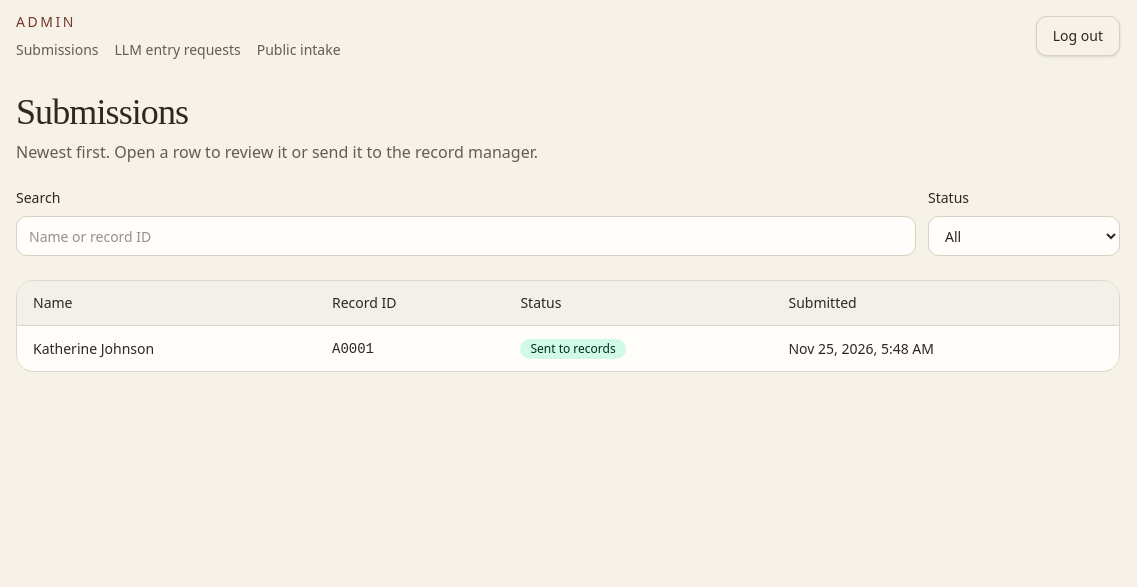
LLM entry requests page › is a separate admin page with Verify and Reject only while pending
Click the link "LLM entry requests": (178, 50) [114,40,241,60]
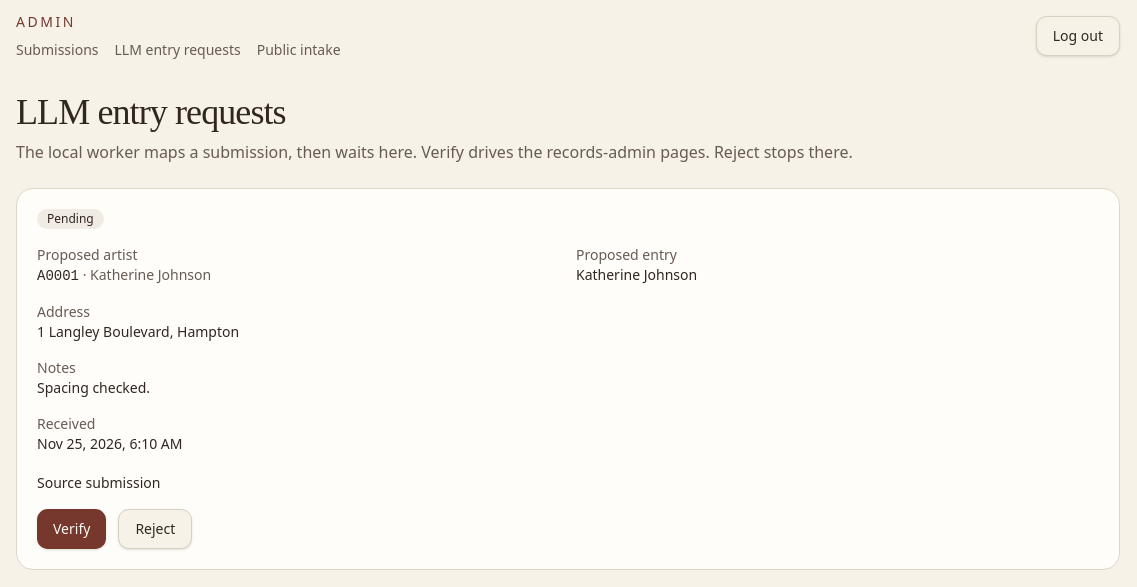
Expected: the heading "LLM entry requests" is shown, [16,92,286,132]
Expected: the link "Source submission" is shown, [37,473,160,493]
Expected: the button "Verify" is shown
Click the button "Verify": (72, 529) [37,509,106,549]
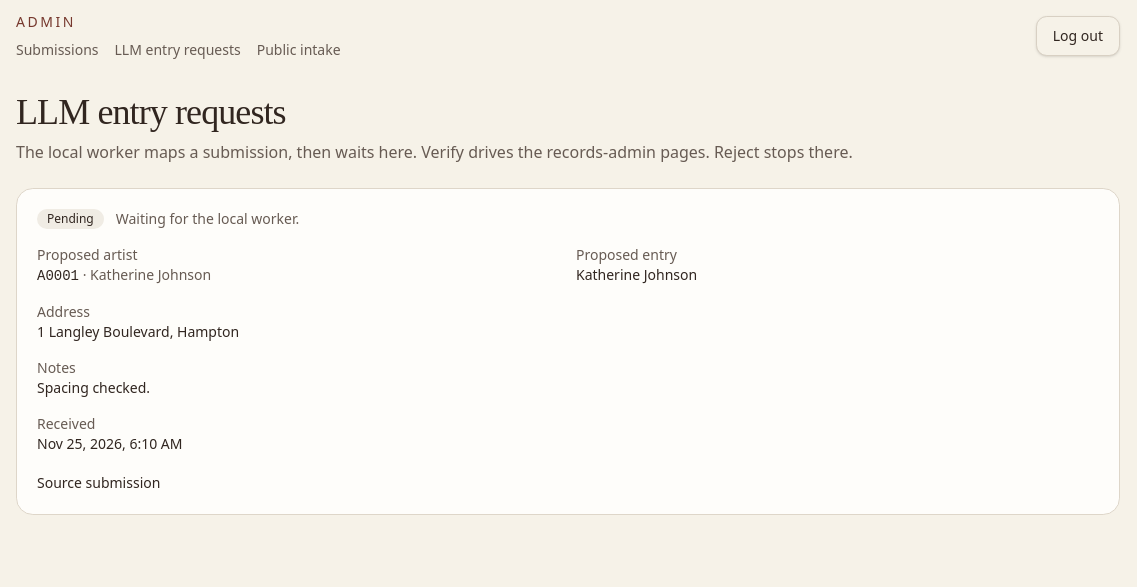
Expected: the button "Reject" is not shown
Expected: the text "Waiting for the local worker." is shown, [116,209,299,229]
